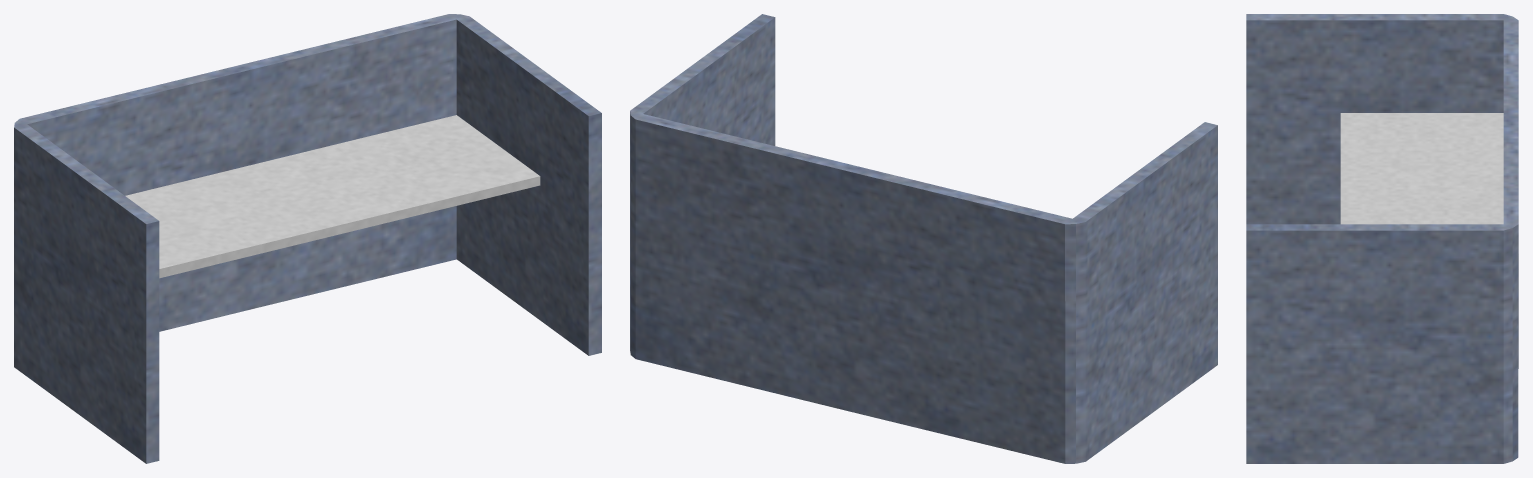
Rendered from divider_full_c_desk_blue.obj.
3 views of the same model, side by side, from view 1: azimuth 30°, elevation 25°; view 2: azimuth 150°, elevation 25°; view 3: azimuth 270°, elevation 25° (orthographic). The views are drawn at different scales.
Visible parts, largest first — view 1: divider_full_c_desk_blue; view 2: divider_full_c_desk_blue; view 3: divider_full_c_desk_blue.
Boxes of the visible parts, x1,y1,x2,y2 form: divider_full_c_desk_blue: [14, 14, 601, 463]; divider_full_c_desk_blue: [630, 14, 1217, 463]; divider_full_c_desk_blue: [1246, 14, 1518, 463].
Size of the model in its own units: 2.99 by 1.5 by 1.59.
